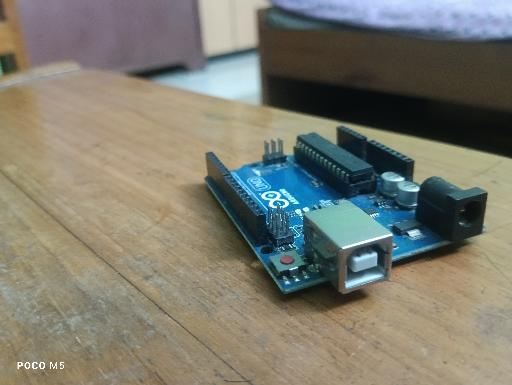Arduino: (203, 125, 488, 297)
